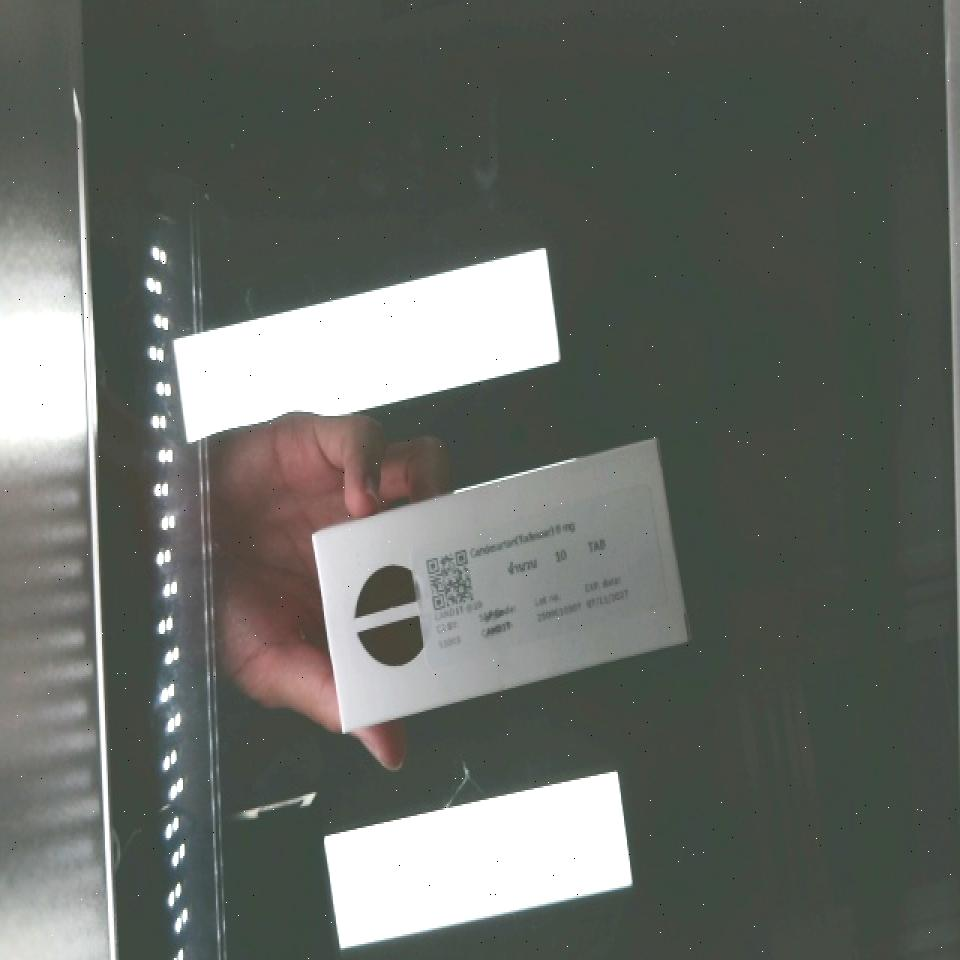medicine_box: (289, 433, 711, 733)
qr_code: (413, 532, 489, 629)
